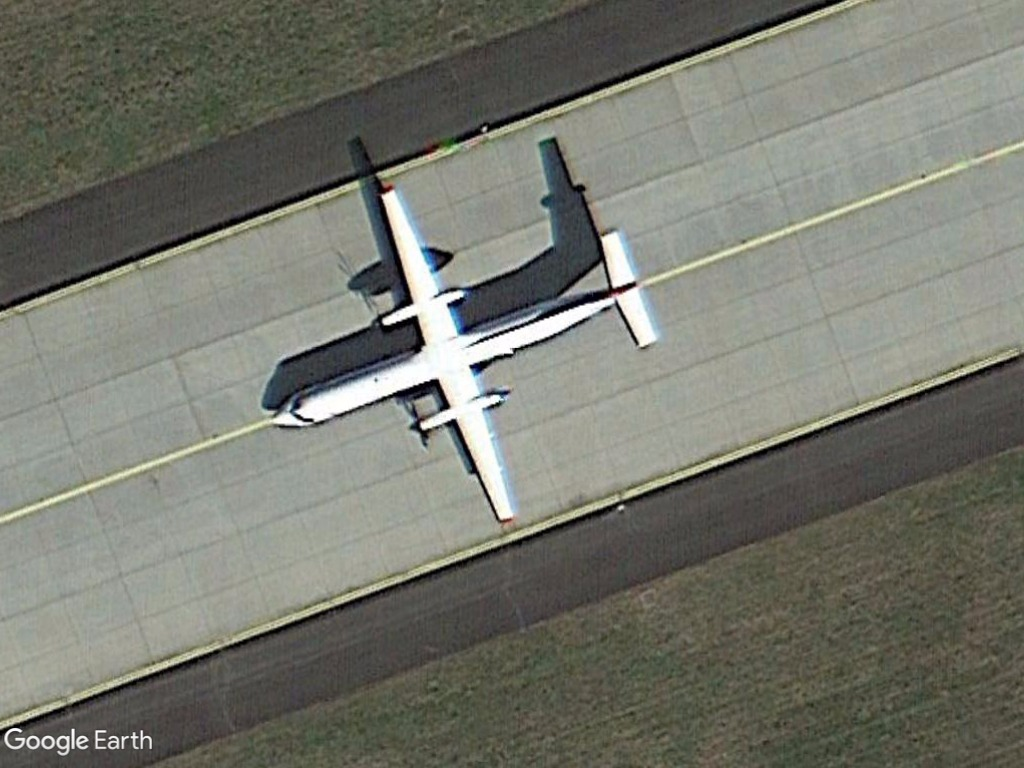propeller: (257, 174, 669, 530)
